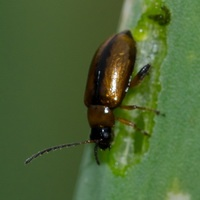insect: (25, 0, 170, 174), (25, 30, 159, 163)
